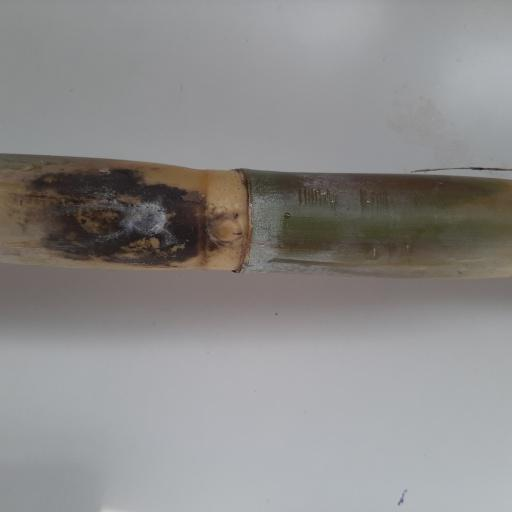Bud: (206, 216, 244, 242)
